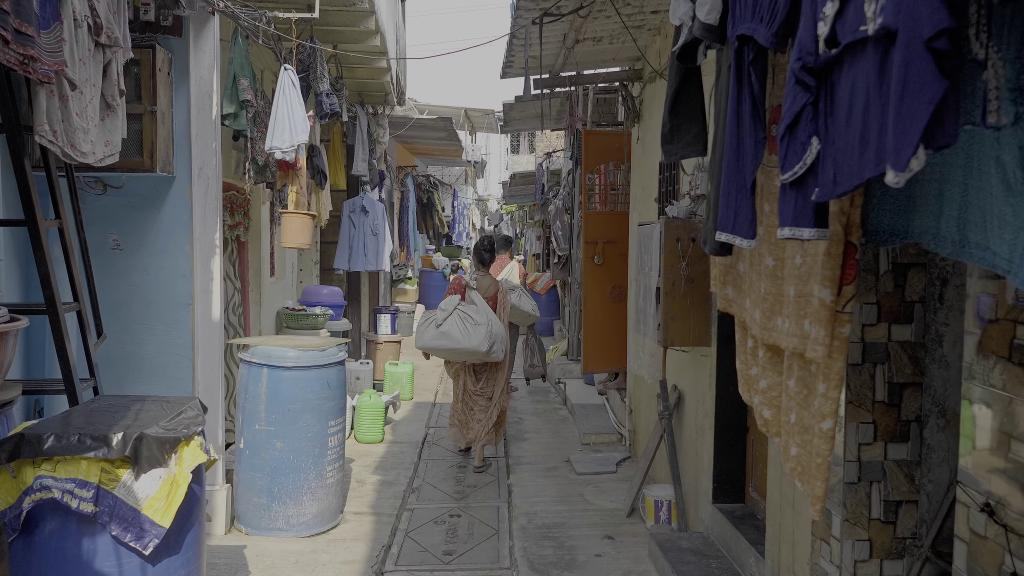dustbin: (367, 333, 401, 378), (395, 304, 416, 339)
